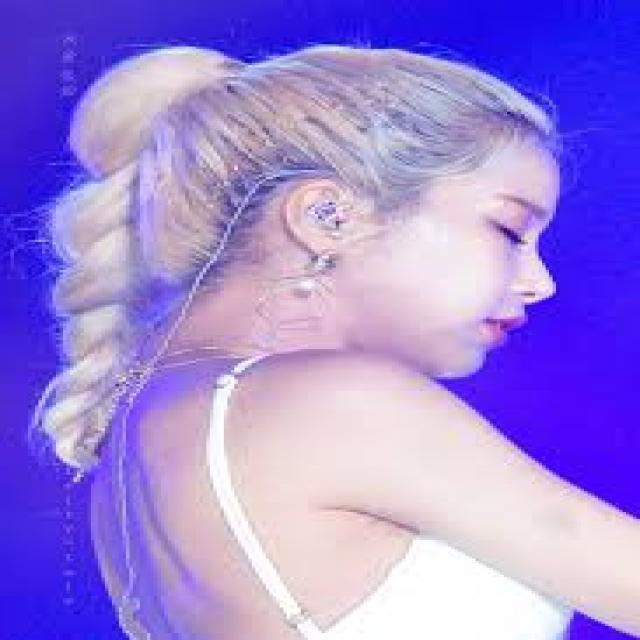earphone: (311, 184, 359, 245)
